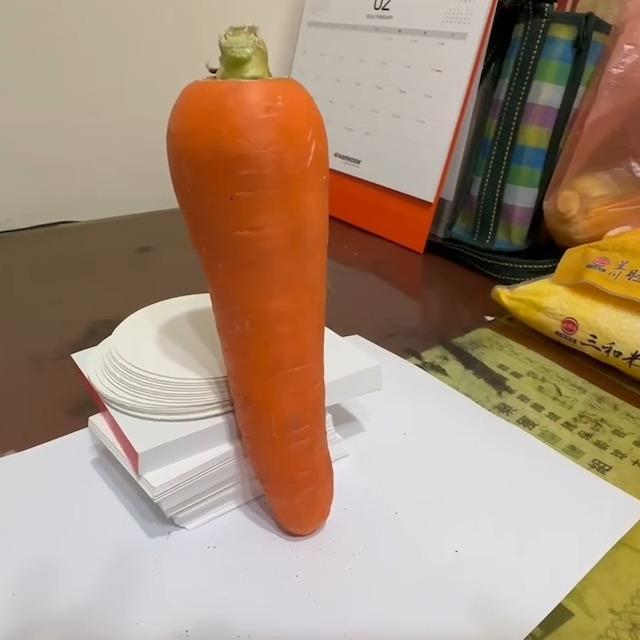carrot: (167, 25, 336, 540)
